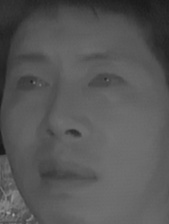eye: (87, 70, 125, 94), (14, 71, 50, 96)
mouth: (33, 153, 98, 194)
